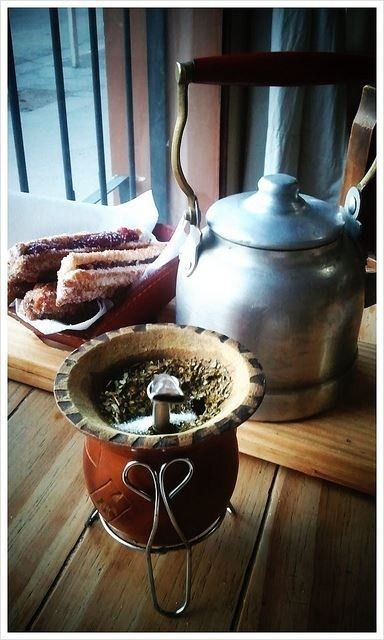mate: (47, 315, 268, 548)
